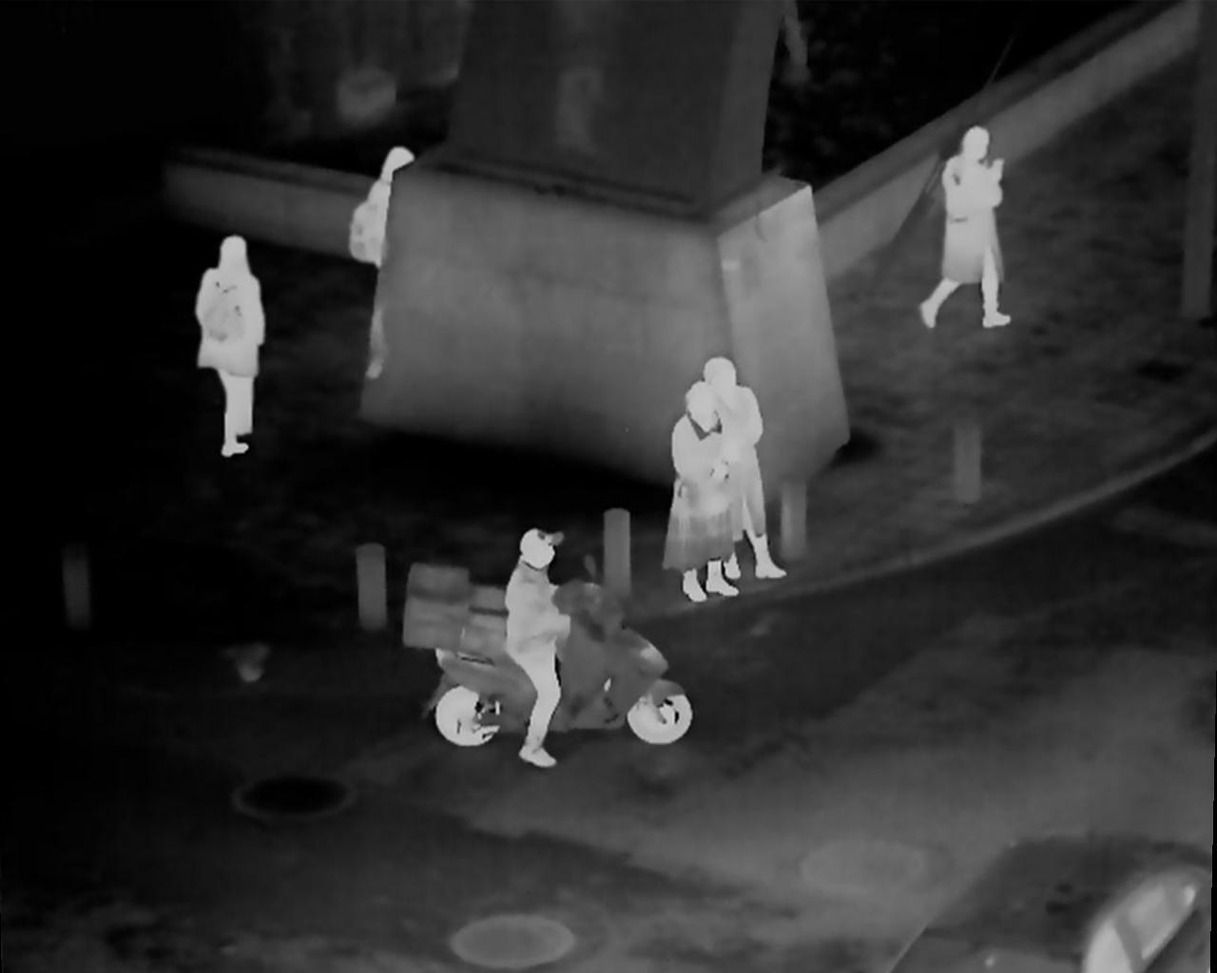person: (700, 357, 787, 580), (917, 123, 1009, 333), (503, 530, 578, 765), (348, 148, 419, 383), (667, 381, 742, 601), (198, 233, 268, 461)
